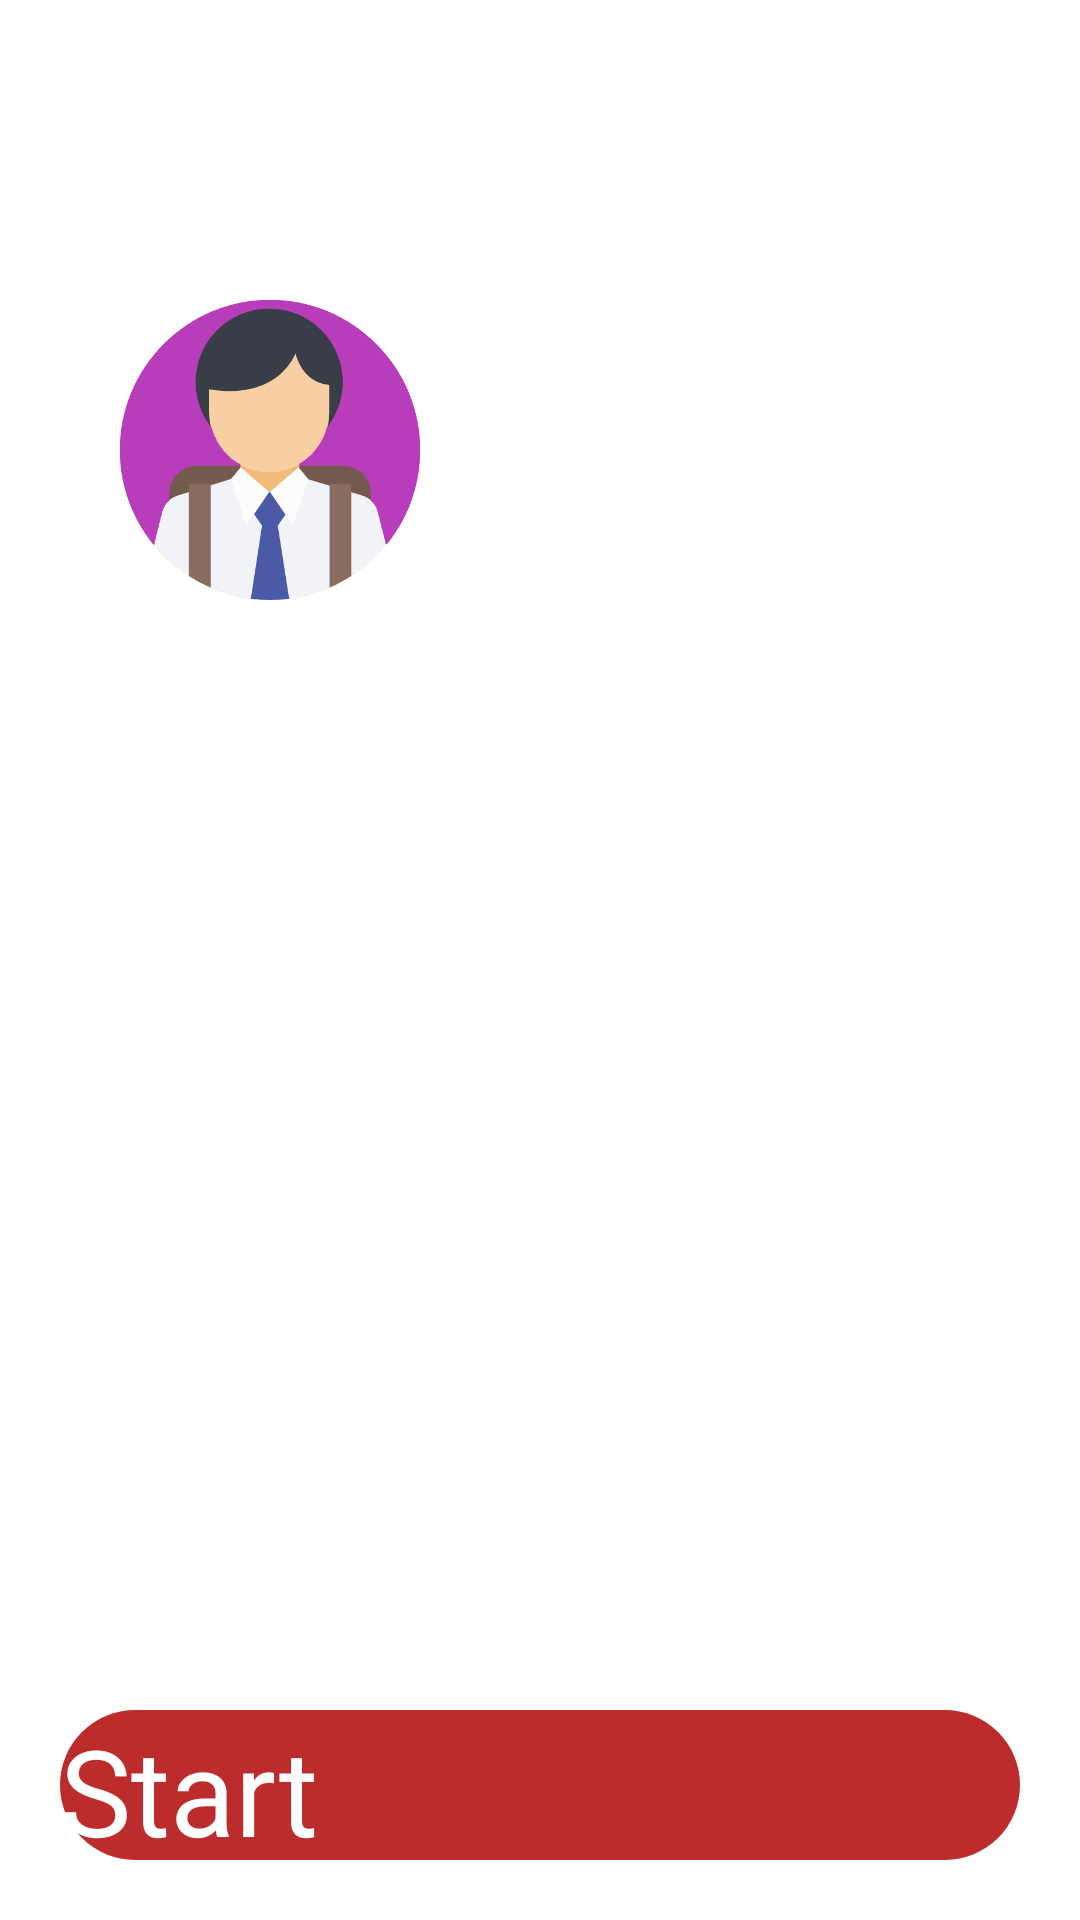

Screen size 1080x1920. Icon name, then its box in pixels as (x1, y1, x2, y2):
person actual ava: (120, 300, 420, 600)
